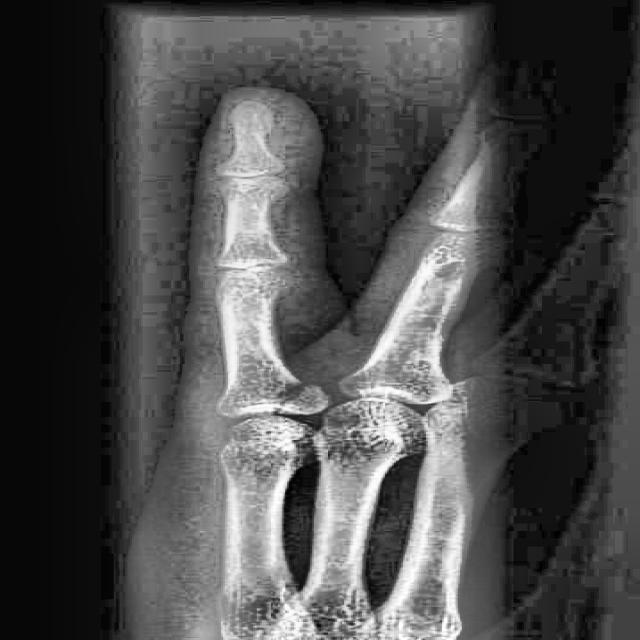fracture: (257, 381, 321, 417)
